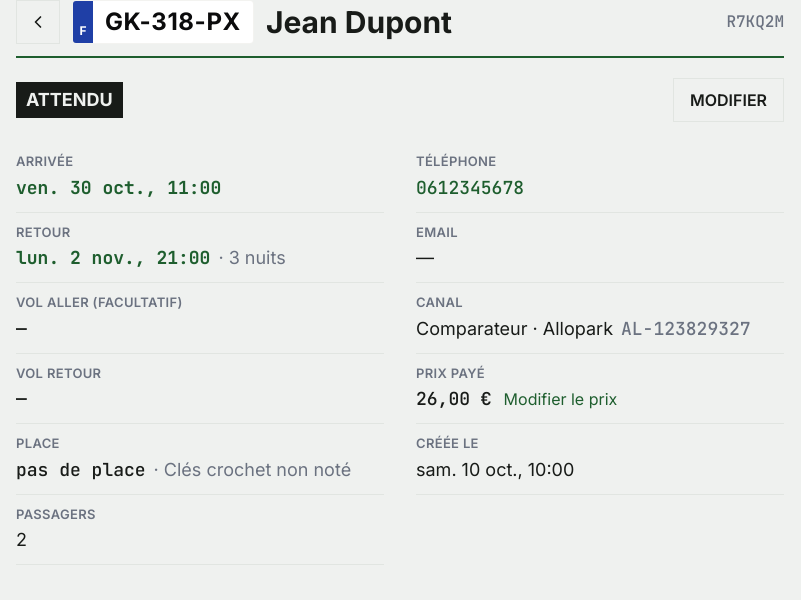
ReservationPage · prix payé (10/10/2026) › dit pourquoi le serveur refuse le montant
The width and height of the screenshot is (801, 600).
Click the button "Modifier le prix": (560, 399) x1=504 y1=387 x2=617 y2=411
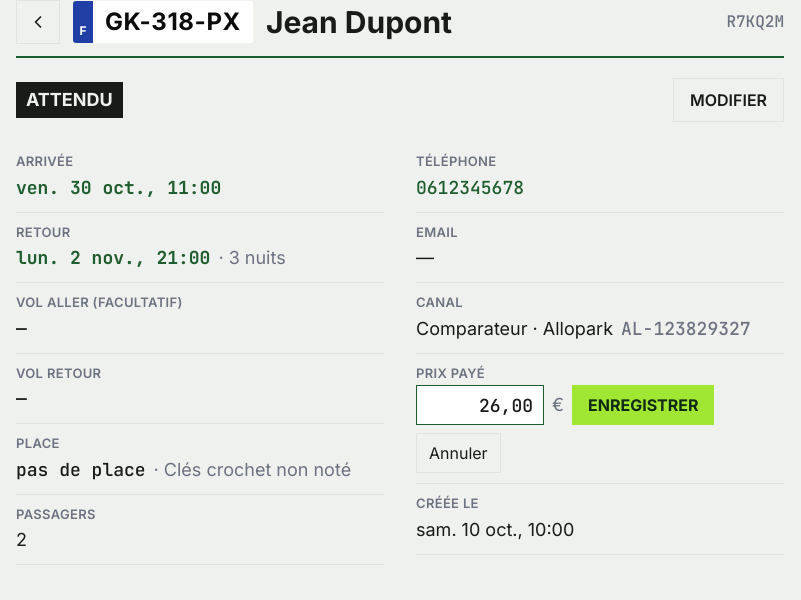
Replace the text in the field named "Prix payé en euros" with "150000": (480, 405) x1=416 y1=385 x2=544 y2=425
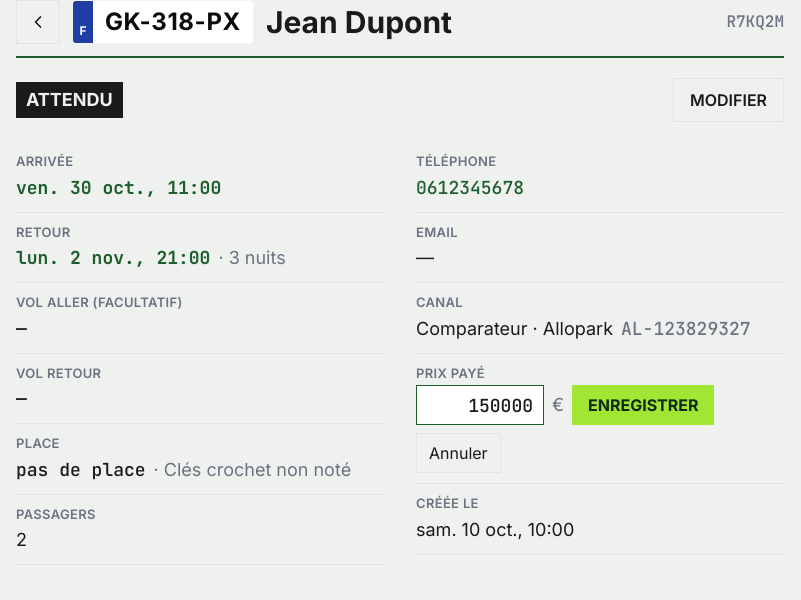
Click the button "Enregistrer": (643, 405) x1=572 y1=385 x2=714 y2=425
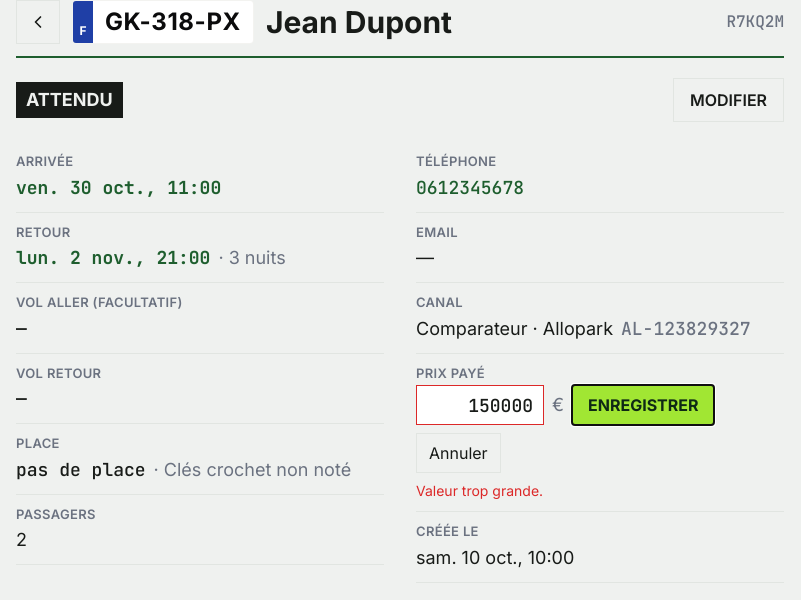
Expected: the message reads "Valeur trop grande.", x1=416 y1=482 x2=543 y2=499
